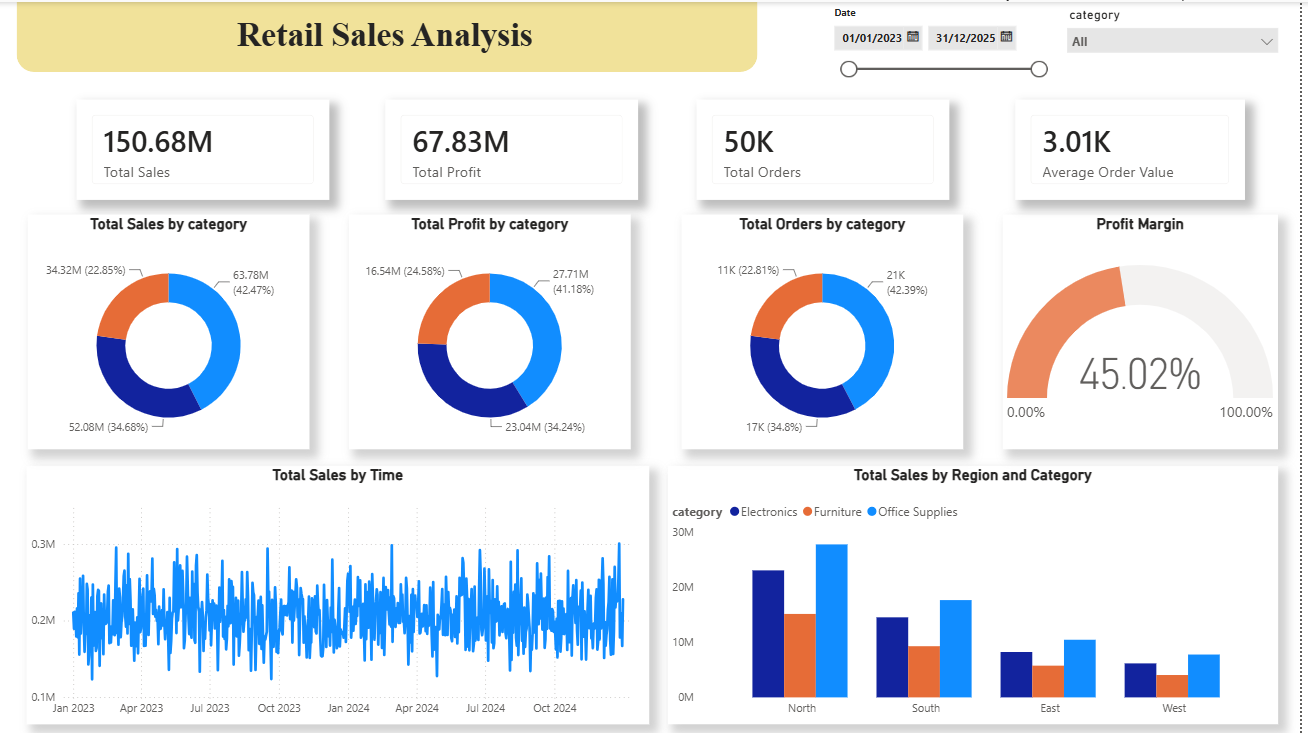

What the dashboard file says about the page in this screenshot:
{"tool":"powerbi","page":{"name":"Page 1","canvas":[1440,815],"ordinal":0},"visuals":[{"type":"cardVisual","fields":{"Data":["Measures (2).Total Sales"]},"box":[85.3,108.1,280.1,111.1],"z":0},{"type":"cardVisual","fields":{"Data":["Measures (2).Total Orders"]},"box":[771.9,108.1,280.1,111],"z":1000},{"type":"cardVisual","fields":{"Data":["Measures (2).Total Profit"]},"box":[427.8,108.1,280.1,111],"z":2000},{"type":"lineChart","title":"Total Sales by Time","fields":{"Category":["calendar.date.Variation.Date Hierarchy.Year","calendar.date.Variation.Date Hierarchy.Quarter","calendar.date.Variation.Date Hierarchy.Month","calendar.date.Variation.Date Hierarchy.Day"],"Y":["Measures (2).Total Sales"]},"box":[30.5,513.1,689.7,286.2],"z":3000},{"type":"clusteredColumnChart","title":"Total Sales by Region and Category","fields":{"Category":["regions.region_name"],"Series":["products.category"],"Y":["Measures (2).Total Sales"]},"box":[739.9,513.1,676,286.2],"z":4000},{"type":"donutChart","fields":{"Category":["products.category"],"Y":["Measures (2).Total Sales"]},"box":[32,236,312.1,260],"z":5000},{"type":"donutChart","fields":{"Category":["products.category"],"Y":["Measures (2).Total Profit"]},"box":[388.2,236,312,260],"z":6000},{"type":"donutChart","fields":{"Category":["products.category"],"Y":["Measures (2).Total Orders"]},"box":[755.2,236,312,260],"z":7000},{"type":"gauge","title":"Profit Margin ","fields":{"Y":["Measures (2).Profit Margin %"]},"box":[1111.4,236,304.5,260.4],"z":8000},{"type":"shape","box":[19.8,0,820.6,77.6],"z":9000},{"type":"textbox","box":[0,9.1,854.1,56.3],"z":10000},{"type":"slicer","fields":{"Values":["calendar.date"]},"box":[912,0,260.4,95.9],"z":11000},{"type":"slicer","fields":{"Values":["products.category"]},"box":[1172.3,0,254.3,85.3],"z":12000},{"type":"cardVisual","fields":{"Data":["Measures (2).Average Order Value"]},"box":[1125.1,108.1,254.3,111.1],"z":13000}]}

Visuals, with their boxes in screenshot pixels (x1, y1, x2, y2), scaled from the page's 1440x815 canvas onto the 1308x733 screenshot:
cardVisual - Measures (2).Total Sales: {"left": 77, "top": 97, "right": 332, "bottom": 197}
cardVisual - Measures (2).Total Orders: {"left": 701, "top": 97, "right": 956, "bottom": 197}
cardVisual - Measures (2).Total Profit: {"left": 389, "top": 97, "right": 643, "bottom": 197}
"Total Sales by Time" lineChart: {"left": 28, "top": 461, "right": 654, "bottom": 719}
"Total Sales by Region and Category" clusteredColumnChart: {"left": 672, "top": 461, "right": 1286, "bottom": 719}
donutChart - products.category x Measures (2).Total Sales: {"left": 29, "top": 212, "right": 313, "bottom": 446}
donutChart - products.category x Measures (2).Total Profit: {"left": 353, "top": 212, "right": 636, "bottom": 446}
donutChart - products.category x Measures (2).Total Orders: {"left": 686, "top": 212, "right": 969, "bottom": 446}
"Profit Margin " gauge: {"left": 1010, "top": 212, "right": 1286, "bottom": 446}
shape: {"left": 18, "top": 0, "right": 763, "bottom": 70}
textbox: {"left": 0, "top": 8, "right": 776, "bottom": 59}
slicer - calendar.date: {"left": 828, "top": 0, "right": 1065, "bottom": 86}
slicer - products.category: {"left": 1065, "top": 0, "right": 1296, "bottom": 77}
cardVisual - Measures (2).Average Order Value: {"left": 1022, "top": 97, "right": 1253, "bottom": 197}
